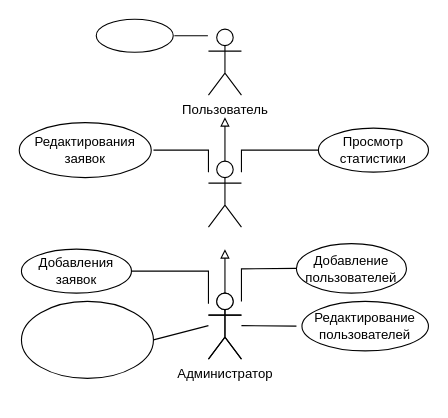
This 448x418 diagram has some shape labels left out. The shapes that lost their labels are listed below. From the top down, each one's centre as x and y in pixels, then its label:
At point 134,35: "Вход".
At point 224,193: "Аутифицированный".
At point 86,339: "назначения ответственных за выполнение работ".
